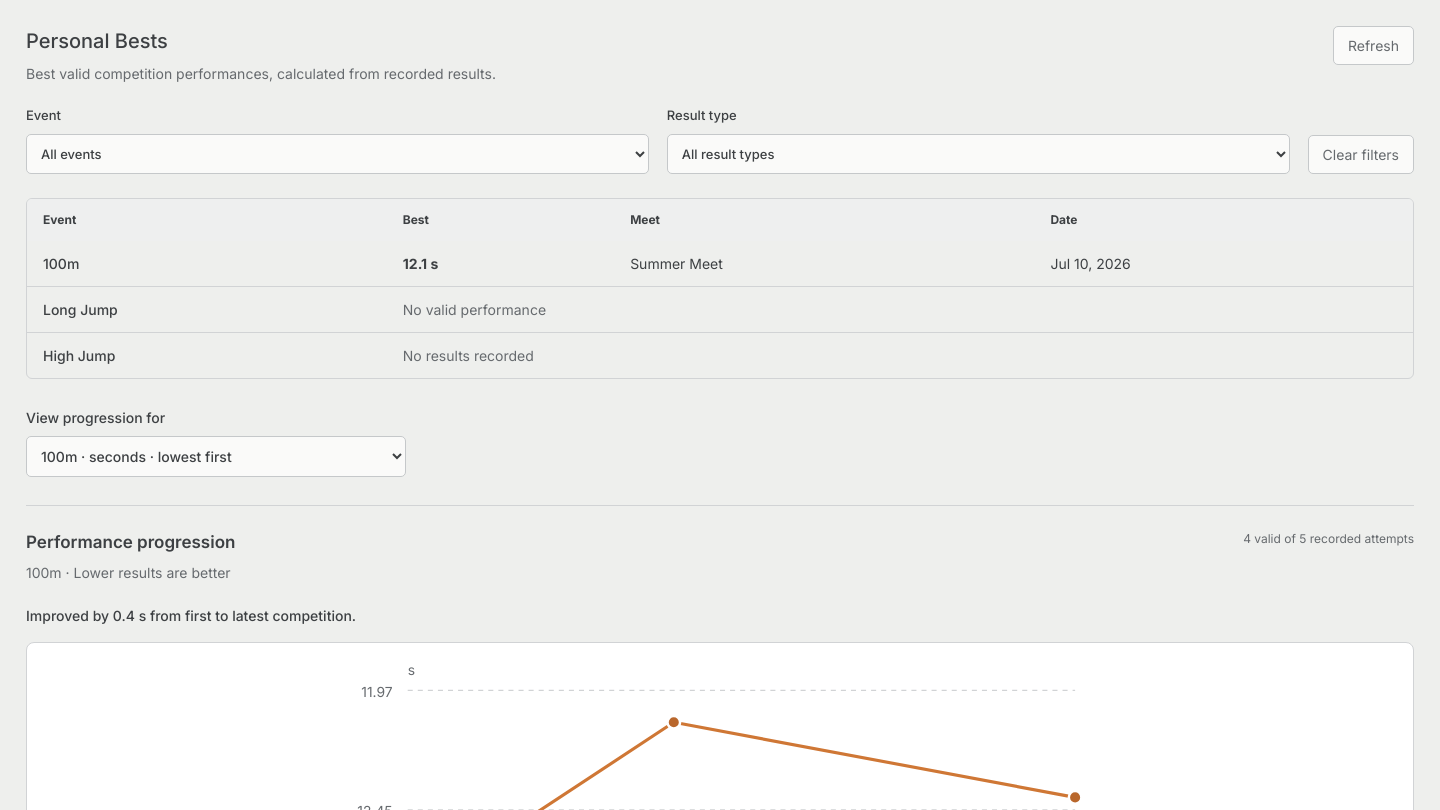
it: filters personal bests by event and result type with a clearable empty state
Expected: the table named "Personal bests by event" is shown, [27,198,1413,378]
Select "100m" in the dropdown labelled "Event": (337, 154) [26,134,649,174]
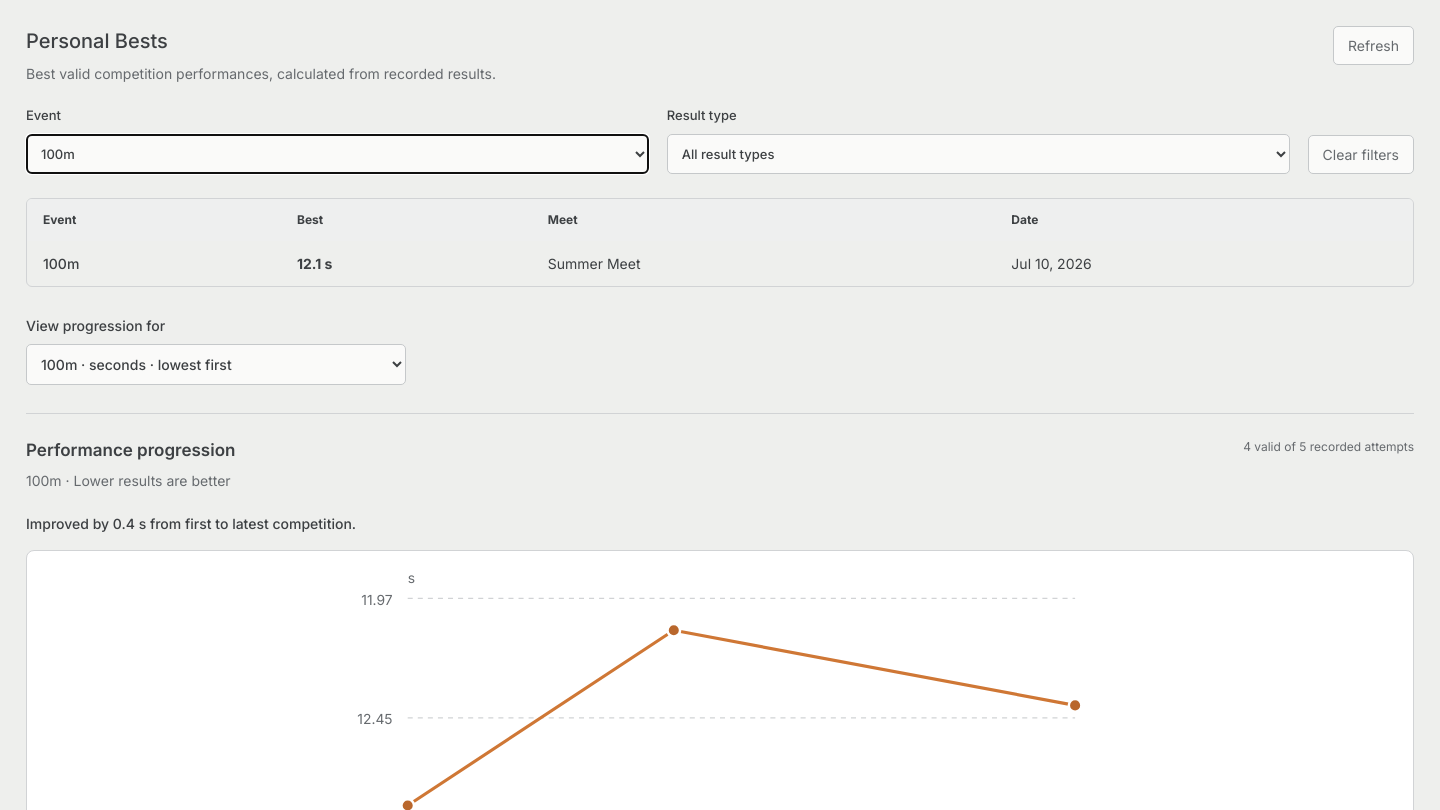
Expected: the column heading "Long Jump" is gone
Select "Distance / height" in the dropdown labelled "Result type": (978, 154) [667,134,1290,174]
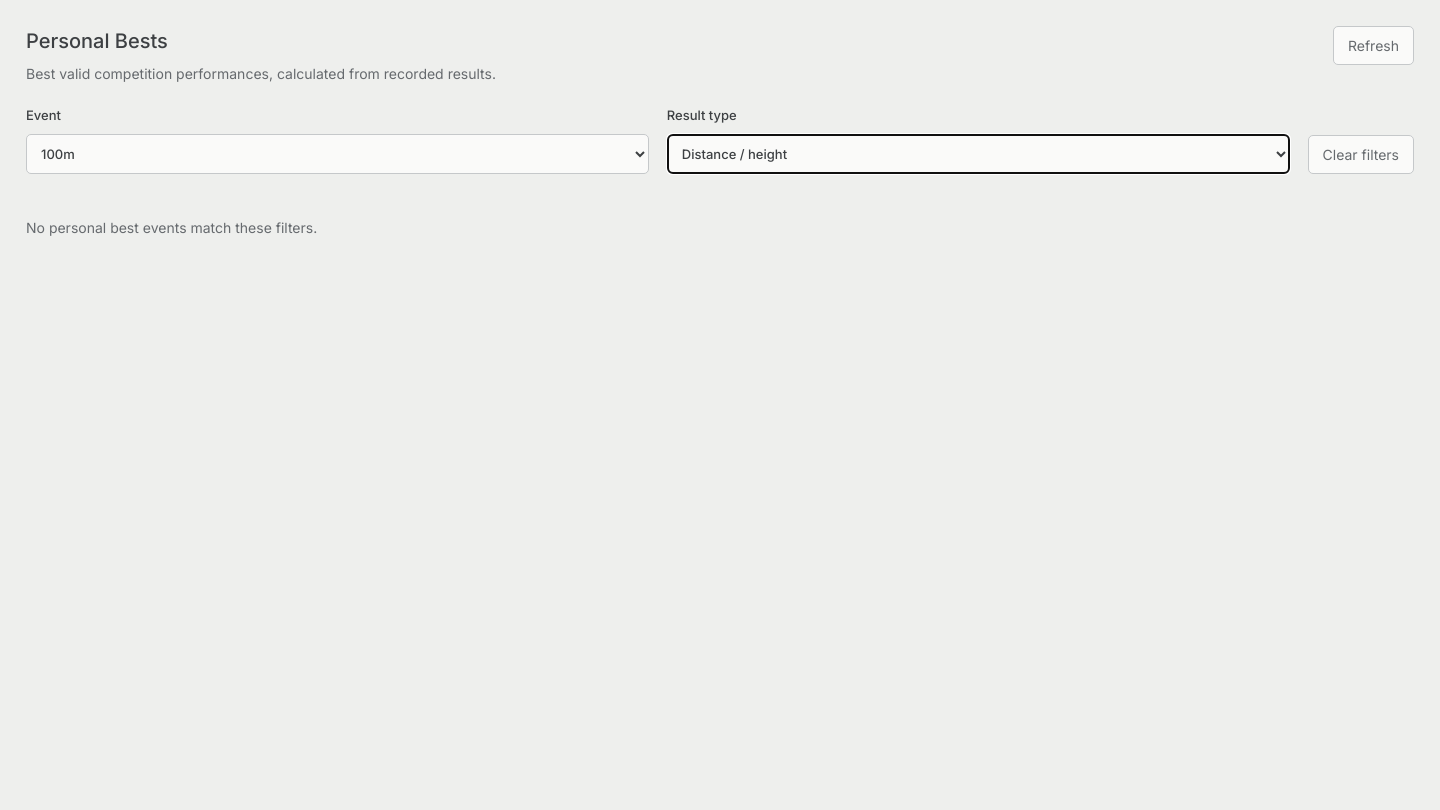
Expected: the text "No personal best events match these filters." is shown, [26,218,317,236]
Click the button "Clear filters": (1361, 154) [1308,134,1414,174]
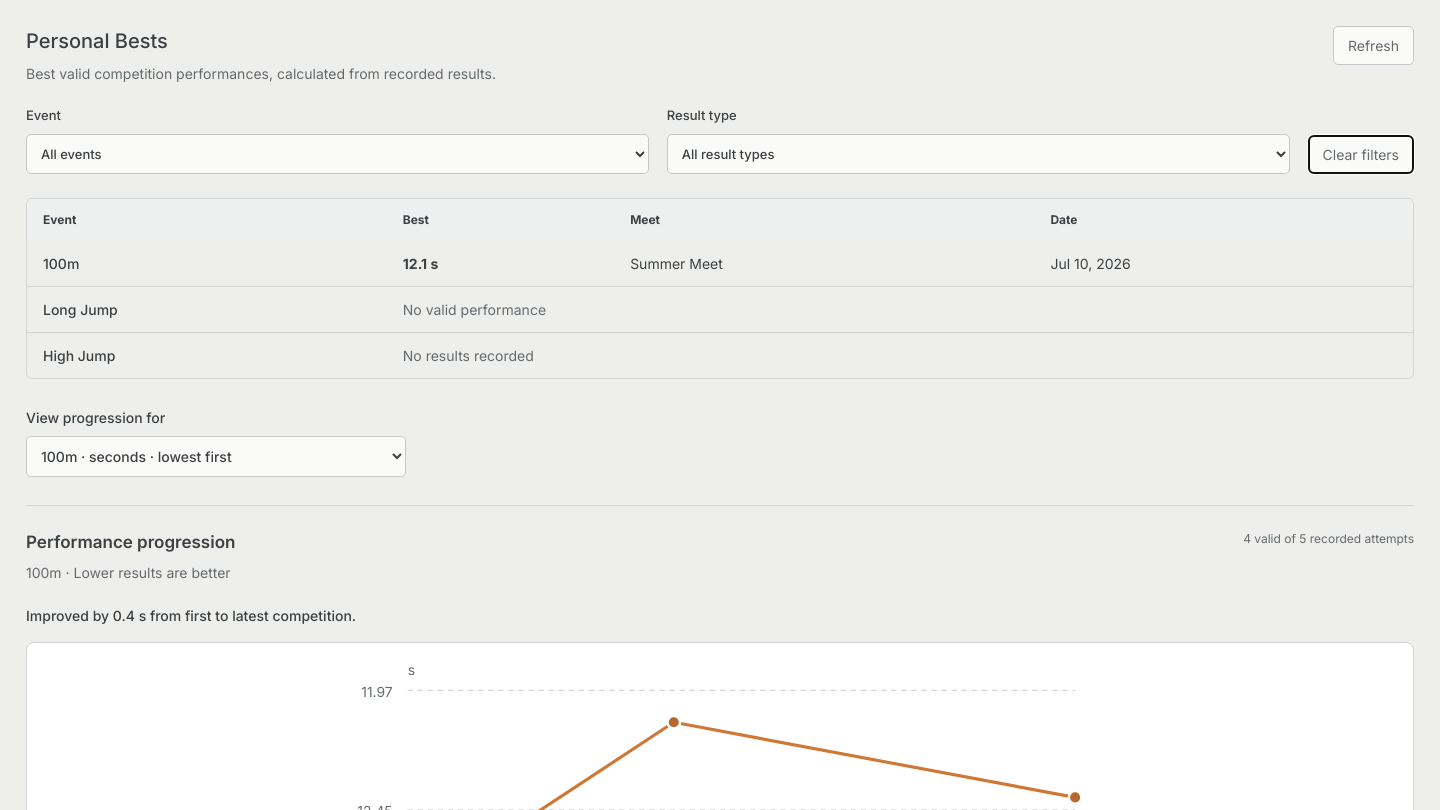
Expected: the column heading "Long Jump" is shown, [27,286,387,332]
Expected: the text "12.1 s" is shown, [387,240,614,286]
